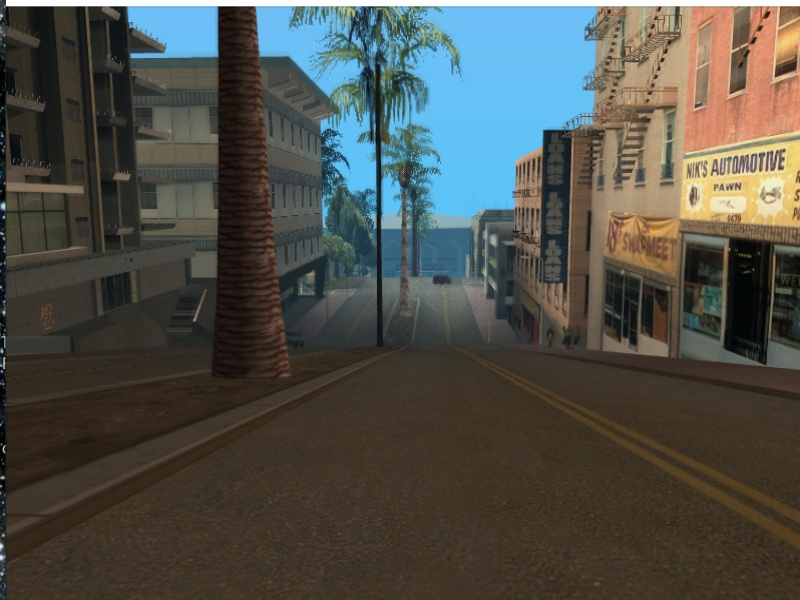pole: (369, 83, 390, 352)
tree: (210, 11, 291, 388), (400, 185, 413, 324)
vehicle: (429, 274, 452, 285)
